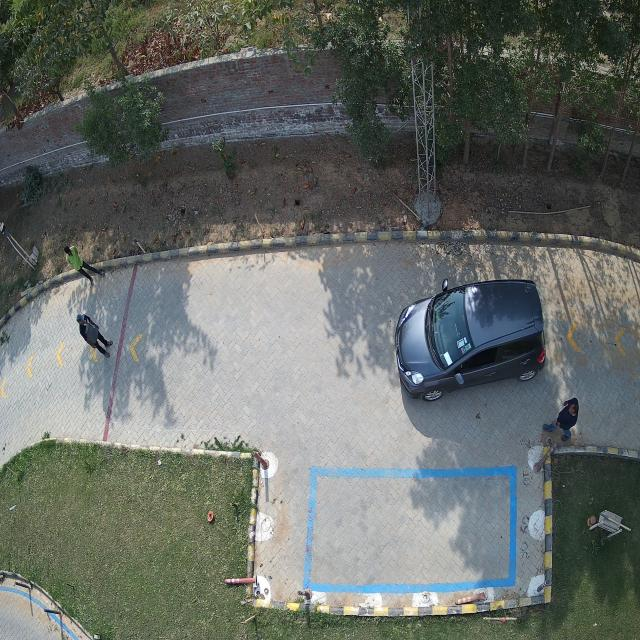car: (395, 280, 546, 402)
